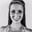face: (9, 3, 25, 23)
